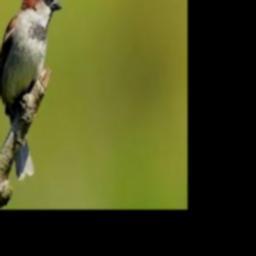Sparrow: (0, 0, 61, 180)
